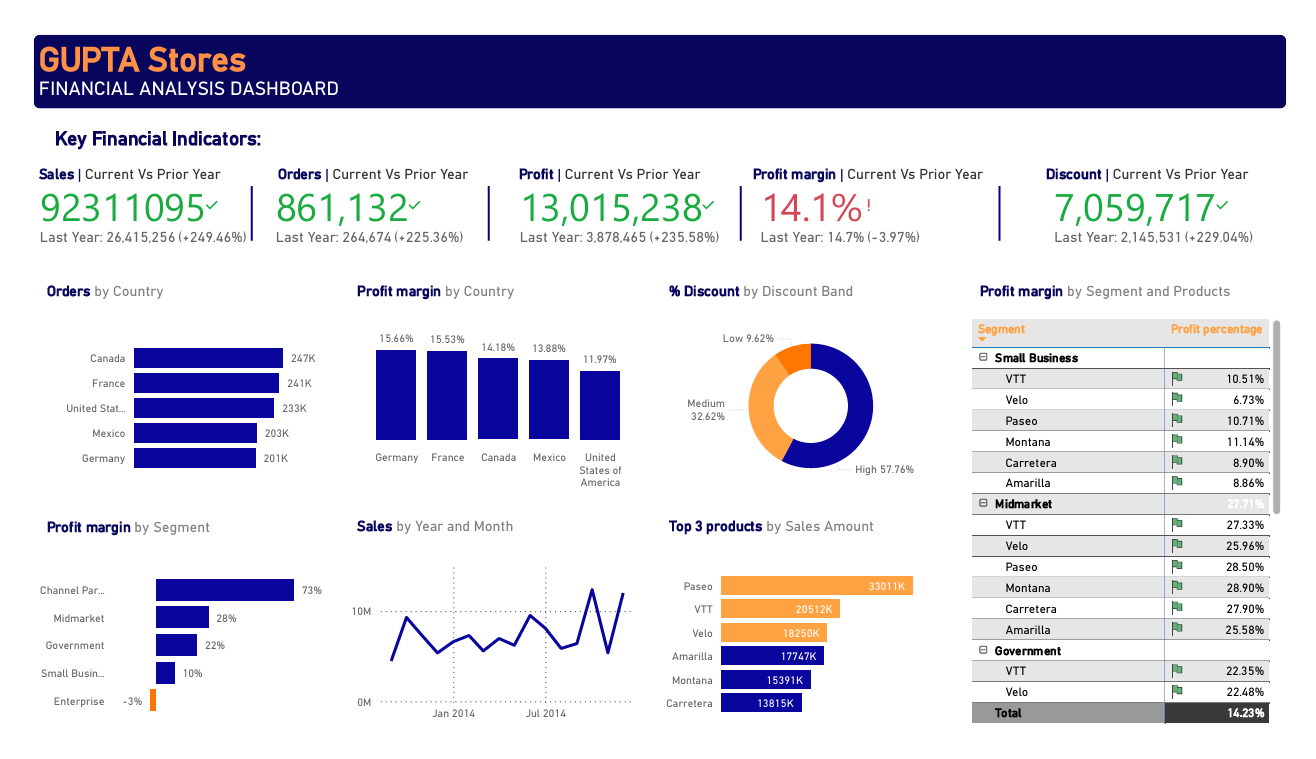

The dashboard page shown, as its layout file describes it:
{"tool":"powerbi","page":{"name":"Page 1","canvas":[1280,720],"ordinal":0},"visuals":[{"type":"shape","box":[953.8,298.8,315,411.2],"z":0},{"type":"shape","box":[11.4,12.9,1257.1,74.3],"z":1000},{"type":"shape","box":[11.4,97.1,1257.1,38.6],"z":2000},{"type":"shape","box":[10,140,1257.5,101.2],"z":3000},{"type":"shape","box":[11.2,251.2,302.5,43.8],"z":4000},{"type":"shape","box":[11.4,298.6,302.9,172.9],"z":5000},{"type":"shape","box":[324.3,250,302.9,44.3],"z":6000},{"type":"shape","box":[640,250,302.9,44.3],"z":7000},{"type":"shape","box":[953.8,250,315,43.8],"z":8000},{"type":"shape","box":[323.8,298.8,302.5,172.5],"z":9000},{"type":"shape","box":[640,298.6,302.9,172.9],"z":10000},{"type":"shape","box":[640,487.1,302.9,44.3],"z":11000},{"type":"shape","box":[325,488.8,303.8,43.8],"z":12000},{"type":"shape","box":[11.4,487.1,302.9,44.3],"z":13000},{"type":"shape","box":[640,535.7,302.9,172.9],"z":14000},{"type":"shape","box":[325.7,535.7,302.9,172.9],"z":15000},{"type":"shape","box":[11.4,537.1,302.9,172.9],"z":16000},{"type":"textbox","box":[11.4,12.9,344.3,74.3],"z":17000},{"type":"textbox","box":[27.1,101.4,298.6,38.6],"z":18000},{"type":"kpi","fields":{"Indicator":["Analysis.Sales Amount"],"Goal":["Analysis.Sales amount LY"],"TrendLine":["Date Table.Year"]},"box":[3.8,155,226.2,73.8],"z":19000},{"type":"textbox","box":[11.2,140,232.5,38.8],"z":20000},{"type":"shape","box":[205,165,50,55],"z":21000},{"type":"kpi","fields":{"TrendLine":["Date Table.Year"],"Indicator":["Analysis.Discount offered"],"Goal":["Analysis.Discount offered LY"]},"box":[1022.5,155,226.2,73.8],"z":22000},{"type":"kpi","fields":{"TrendLine":["Date Table.Year"],"Indicator":["Analysis.Profit percentage"],"Goal":["Analysis.Profit percentage LY"]},"box":[727.5,155,226.2,73.8],"z":23000},{"type":"kpi","fields":{"TrendLine":["Date Table.Year"],"Indicator":["Analysis.Profit"],"Goal":["Analysis.Profit LY"]},"box":[486.2,155,226.2,73.8],"z":24000},{"type":"kpi","fields":{"TrendLine":["Date Table.Year"],"Indicator":["Analysis.Orders"],"Goal":["Analysis.Orders LY"]},"box":[241.2,155,226.2,73.8],"z":25000},{"type":"textbox","box":[1022.5,140,257.5,38.8],"z":26000},{"type":"textbox","box":[727.5,140,296.2,38.8],"z":27000},{"type":"textbox","box":[492.5,140,235,38.8],"z":28000},{"type":"textbox","box":[251.2,140,241.2,38.8],"z":29000},{"type":"shape","box":[956.2,165,50,55],"z":30000},{"type":"shape","box":[442.5,165,50,55],"z":31000},{"type":"shape","box":[696.2,165,50,55],"z":32000},{"type":"barChart","fields":{"Category":["Financials.Country"],"Y":["Analysis.Orders"]},"box":[25,305,273.8,158.8],"z":33000},{"type":"textbox","box":[18.8,257.5,232.5,31.2],"z":34000},{"type":"textbox","box":[643.8,257.5,232.5,31.2],"z":35000},{"type":"textbox","box":[331.2,257.5,232.5,31.2],"z":36000},{"type":"textbox","box":[18.8,495,232.5,31.2],"z":37000},{"type":"textbox","box":[331.2,493.8,232.5,31.2],"z":38000},{"type":"textbox","box":[643.8,493.8,232.5,31.2],"z":39000},{"type":"columnChart","fields":{"Category":["Financials.Country"],"Y":["Analysis.Profit percentage"]},"box":[323.8,295,302.5,182.5],"z":40000},{"type":"donutChart","fields":{"Category":["Financials.Discount Band"],"Y":["Analysis.Discount offered"]},"box":[640,298.8,302.5,173.8],"z":41000},{"type":"barChart","fields":{"Category":["Financials.Segment"],"Y":["Analysis.Profit percentage"]},"box":[0,536.2,313.8,173.8],"z":42000},{"type":"lineChart","fields":{"Category":["Date Table.Date.Variation.Date Hierarchy.Year","Date Table.Date.Variation.Date Hierarchy.Month"],"Y":["Analysis.Sales Amount"]},"box":[323.8,532.5,305,177.5],"z":43000},{"type":"barChart","fields":{"Category":["Financials.Product"],"Y":["Analysis.Sales Amount"]},"box":[640,535,302.5,173.8],"z":44000},{"type":"pivotTable","fields":{"Rows":["Financials.Segment","Financials.Product"],"Values":["Analysis.Profit percentage"]},"box":[948.8,293.8,320,416.2],"z":45000},{"type":"textbox","box":[956.2,257.5,282.5,31.2],"z":46000}]}

Visuals, with their boxes in screenshot pixels (x1, y1, x2, y2), scaled from the page's 1280x720 canvas onto the 1316x759 screenshot:
shape: (981,315,1304,748)
shape: (12,14,1304,92)
shape: (12,102,1304,143)
shape: (10,148,1303,254)
shape: (12,265,323,311)
shape: (12,315,323,497)
shape: (333,264,645,310)
shape: (658,264,969,310)
shape: (981,264,1304,310)
shape: (333,315,644,497)
shape: (658,315,969,497)
shape: (658,513,969,560)
shape: (334,515,646,561)
shape: (12,513,323,560)
shape: (658,565,969,747)
shape: (335,565,646,747)
shape: (12,566,323,748)
textbox: (12,14,366,92)
textbox: (28,107,335,148)
kpi - Analysis.Sales Amount x Analysis.Sales amount LY: (4,163,236,241)
textbox: (12,148,251,188)
shape: (211,174,262,232)
kpi - Date Table.Year x Analysis.Discount offered: (1051,163,1284,241)
kpi - Date Table.Year x Analysis.Profit percentage: (748,163,981,241)
kpi - Date Table.Year x Analysis.Profit: (500,163,732,241)
kpi - Date Table.Year x Analysis.Orders: (248,163,481,241)
textbox: (1051,148,1315,188)
textbox: (748,148,1052,188)
textbox: (506,148,748,188)
textbox: (258,148,506,188)
shape: (983,174,1034,232)
shape: (455,174,506,232)
shape: (716,174,767,232)
barChart - Financials.Country x Analysis.Orders: (26,322,307,489)
textbox: (19,271,258,304)
textbox: (662,271,901,304)
textbox: (341,271,580,304)
textbox: (19,522,258,555)
textbox: (341,521,580,553)
textbox: (662,521,901,553)
columnChart - Financials.Country x Analysis.Profit percentage: (333,311,644,503)
donutChart - Financials.Discount Band x Analysis.Discount offered: (658,315,969,498)
barChart - Financials.Segment x Analysis.Profit percentage: (0,565,323,748)
lineChart - Date Table.Date.Variation.Date Hierarchy.Year x Date Table.Date.Variation.Date Hierarchy.Month: (333,561,646,748)
barChart - Financials.Product x Analysis.Sales Amount: (658,564,969,747)
pivotTable - Financials.Segment x Financials.Product: (975,310,1304,748)
textbox: (983,271,1274,304)
